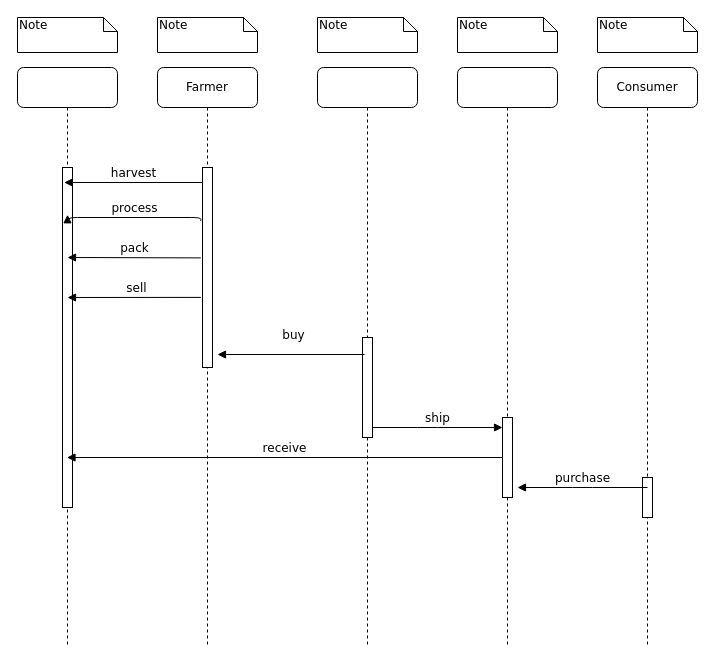
Image size: 715x665. Some labels were removed from this diagram. The shapes that lost their labels are listed below. From the top down, each one's box as (x1, y1, x2, y2) in pixels, then its label:
(16, 66, 118, 648): Coffee
(316, 66, 418, 648): Distributor
(456, 66, 558, 648): Retailer
